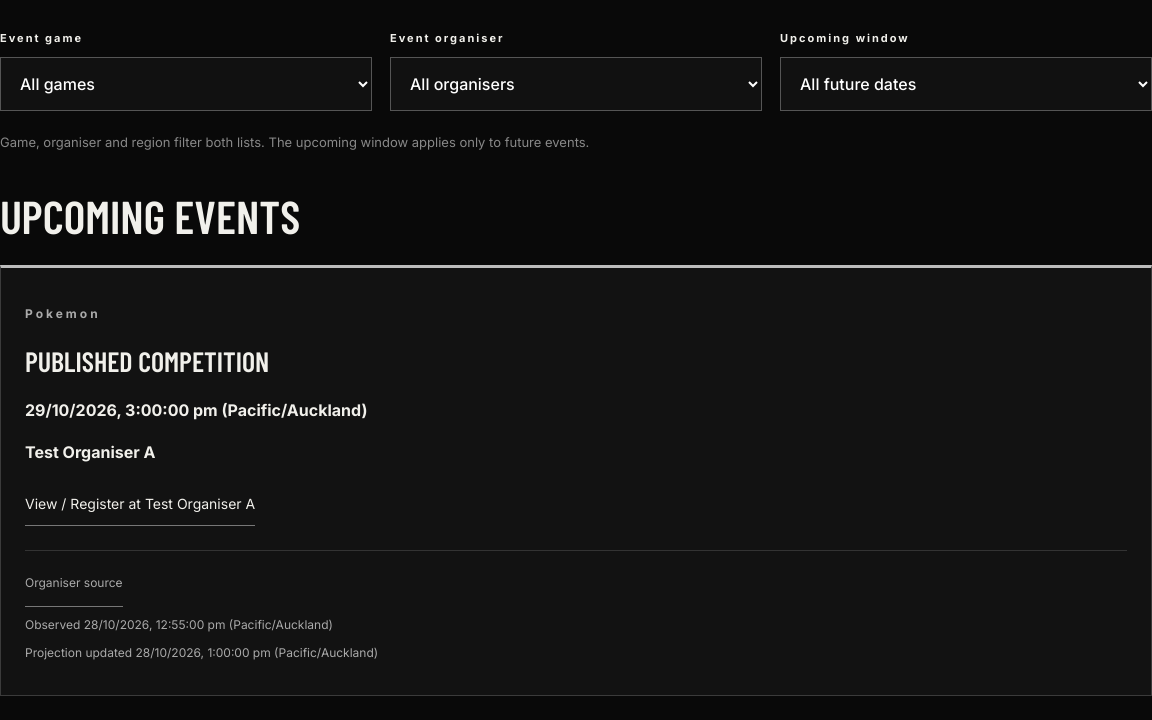
Scenario: Events and Recent Winners › applies game filters before filling the three winner slots
Step 1. Select "Pokemon" in the dropdown labelled "Event game" → [186, 84], box [0,56,372,110]
(page scrolled)
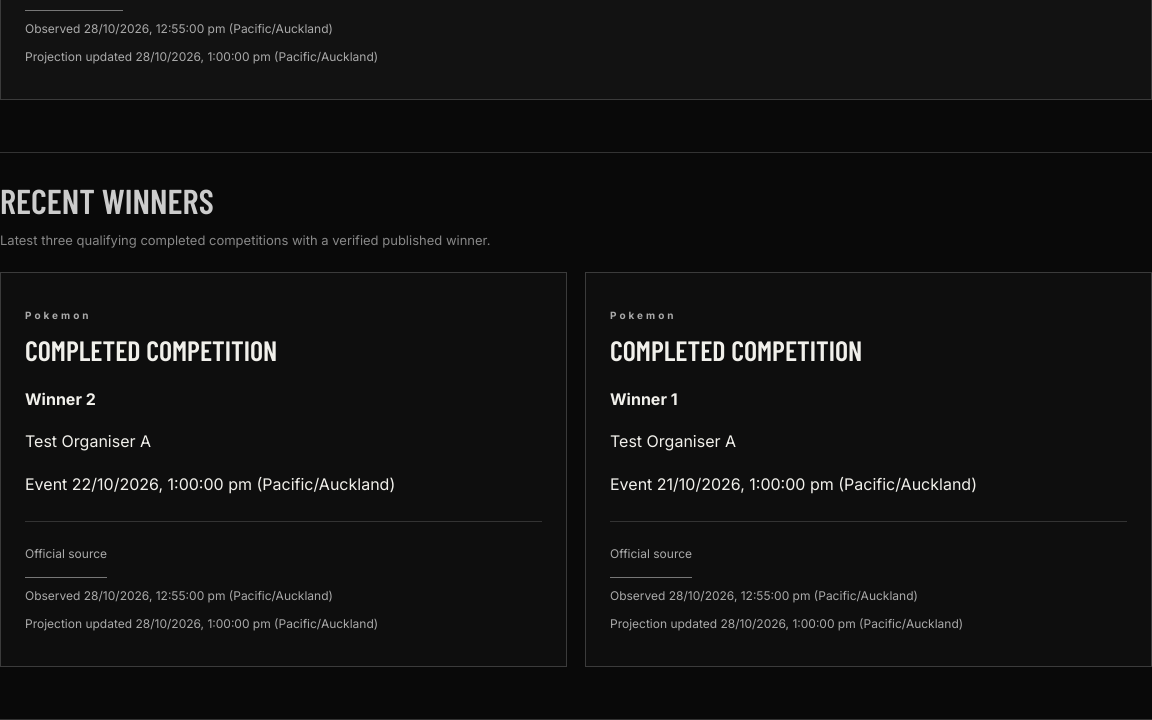
Expected: the text "Winner 2" is shown, [25,389,96,409]
Expected: the text "Winner 1" is shown, [610,389,678,409]
